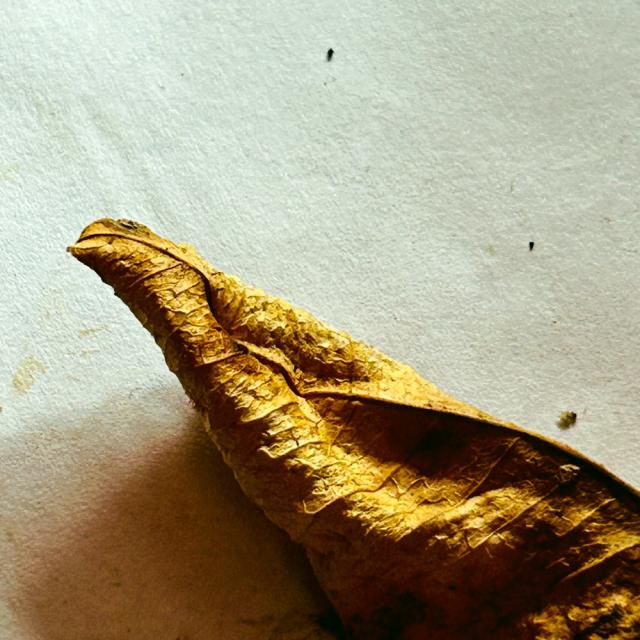DryLeaf_Lemon: (68, 219, 639, 639)
